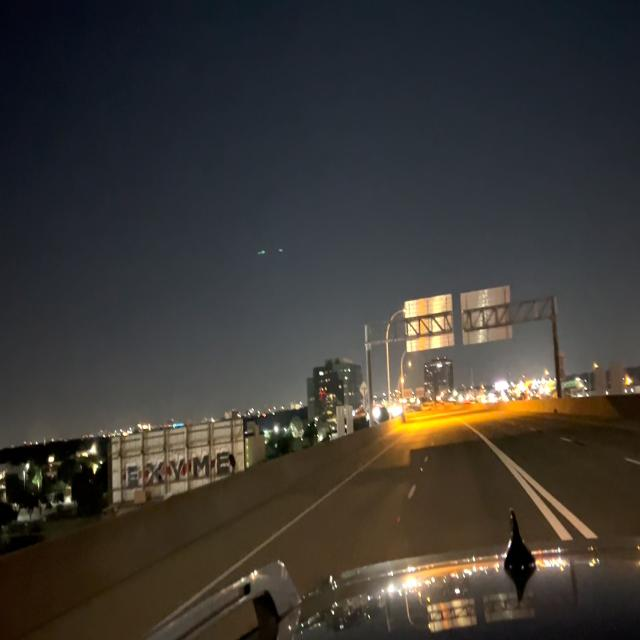back-of-sign: (462, 282, 512, 350), (405, 294, 457, 357)
